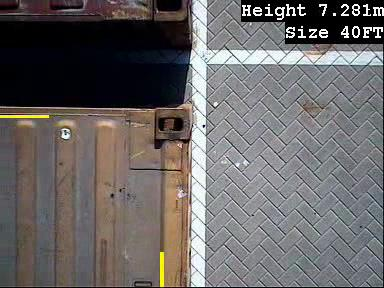groundmarker_2: (190, 37, 237, 120)
